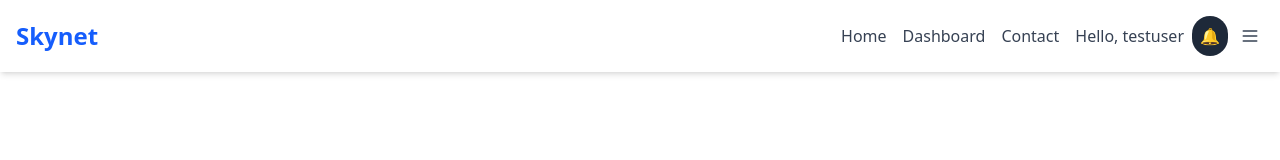
Navbar Component › toggles dropdown menu when menu button is clicked
Expected: the text "Hello, testuser" is shown, left=1075, top=24, right=1184, bottom=48
Expected: the text "Logout" is not shown
Note: Click the menu button
What coordinates should you click on to do the following:
click the button named "Toggle menu"
I would click on:
 (1250, 36)
Its box is left=1236, top=22, right=1264, bottom=50.
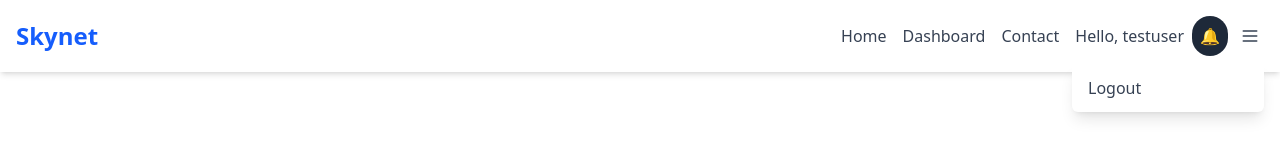
Expected: the button "Logout" is shown, left=1072, top=68, right=1264, bottom=108
Note: Click the menu button again
What coordinates should you click on to do the following:
click the button named "Toggle menu"
I would click on:
 (1250, 36)
Its box is left=1236, top=22, right=1264, bottom=50.
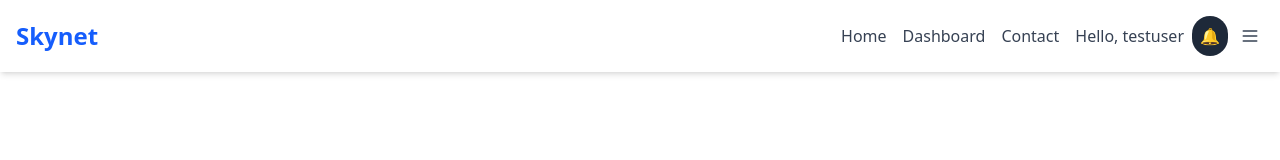
Expected: the button "Logout" is gone
